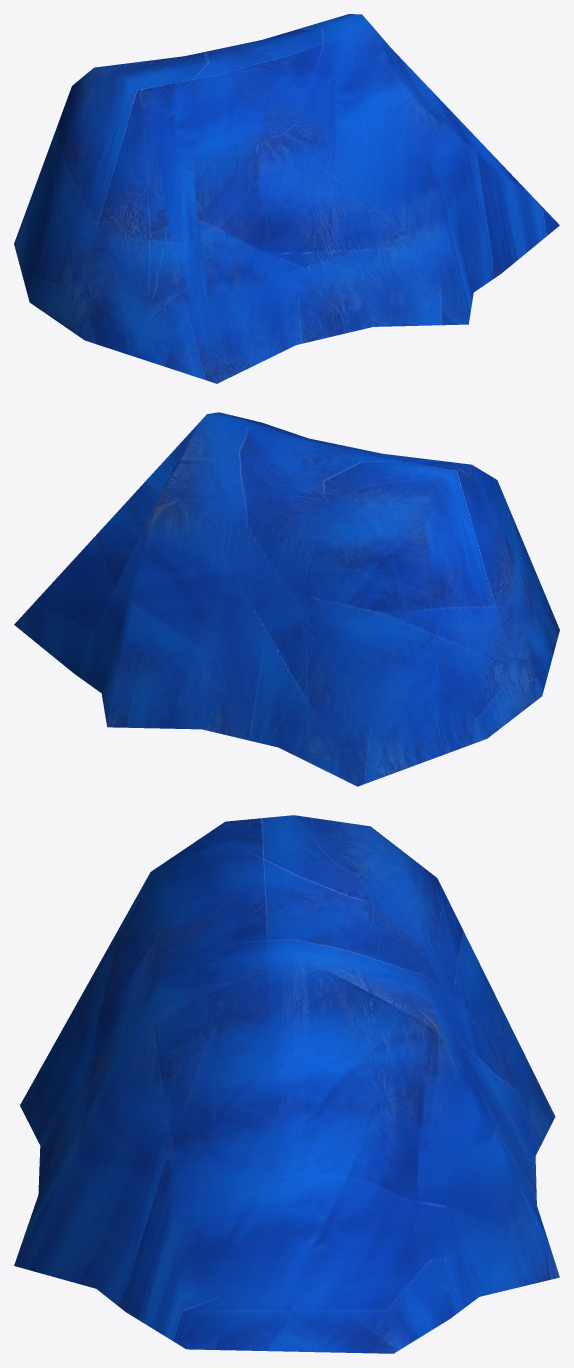
File: tent_blue.fbx
3 renders of one model, top to bottom at view 1: azimuth 30°, elevation 25°; view 2: azimuth 150°, elevation 25°; view 3: azimuth 270°, elevation 25°, orthographic. The views are drawn at different scales.
Parts seen in each view (by area): view 1: tent; view 2: tent; view 3: tent.
Part boxes in pixels (box(x1,y1,x2,y2)): tent: box(14, 14, 559, 383); tent: box(14, 412, 559, 786); tent: box(14, 815, 559, 1353).
Size of the model in its own units: 2212 by 1099 by 1712.
